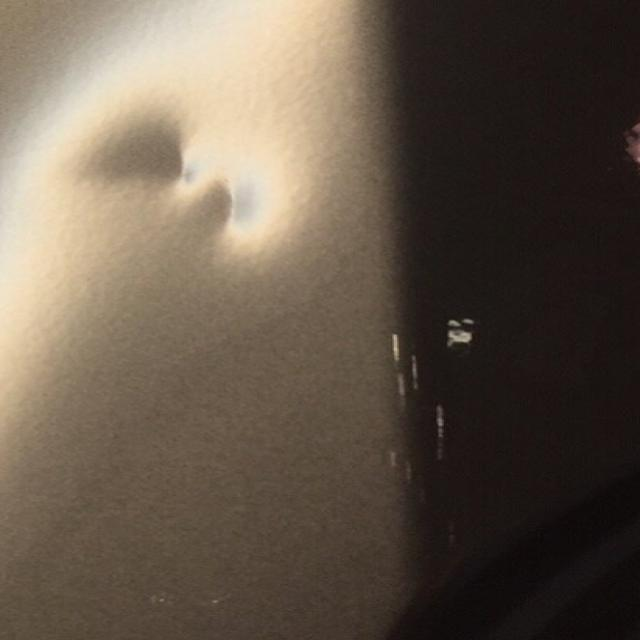dents: (88, 98, 300, 274)
